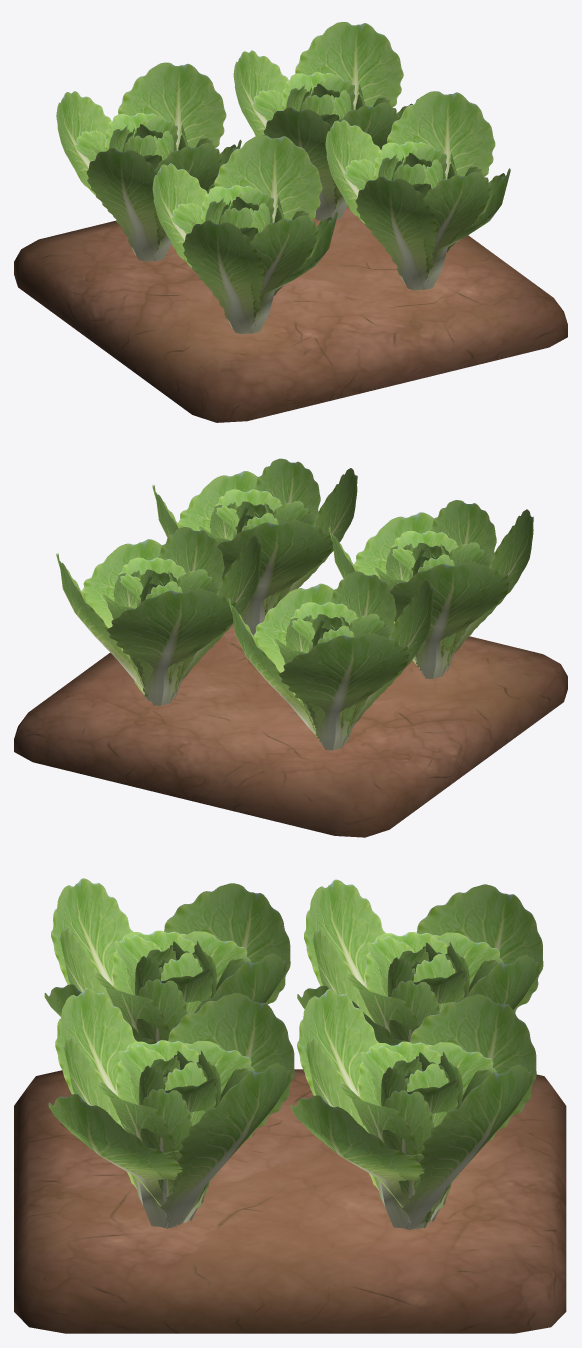
The model's file is marul_plant.fbx.
3 views of the same model, one above another, from view 1: azimuth 30°, elevation 25°; view 2: azimuth 150°, elevation 25°; view 3: azimuth 270°, elevation 25° (orthographic). The views are drawn at different scales.
Parts seen in each view (by area): view 1: marul_plant3, Soil_marul; view 2: marul_plant3, Soil_marul, marul_plant2; view 3: marul_plant3, Soil_marul, marul_plant2.
Part boxes in pixels (x1,y1,x2,y2): marul_plant3: (56,22,510,333); Soil_marul: (14,206,567,422); marul_plant3: (56,458,533,750); Soil_marul: (14,623,567,837); marul_plant2: (123,592,455,741); marul_plant3: (44,878,543,1229); Soil_marul: (14,1069,566,1333); marul_plant2: (118,1013,435,1229).
Bounding box in the file's own units: 164 × 80.79 × 162.
